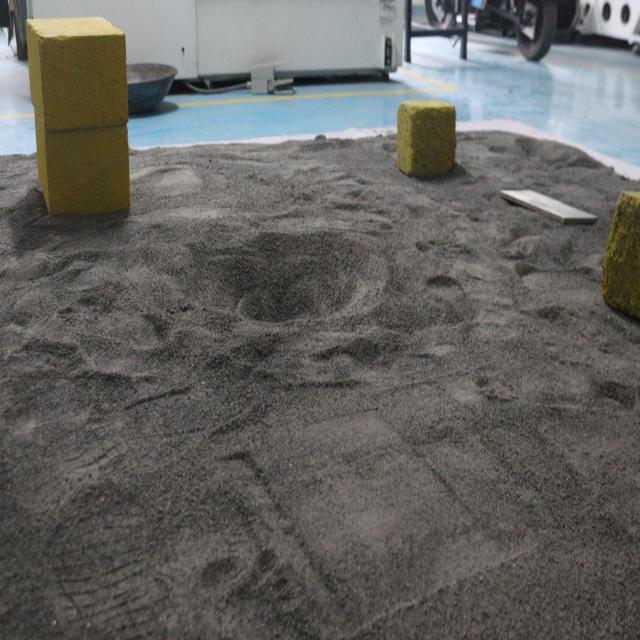box: (28, 8, 136, 224), (394, 98, 459, 178)
crater: (180, 215, 388, 340)
